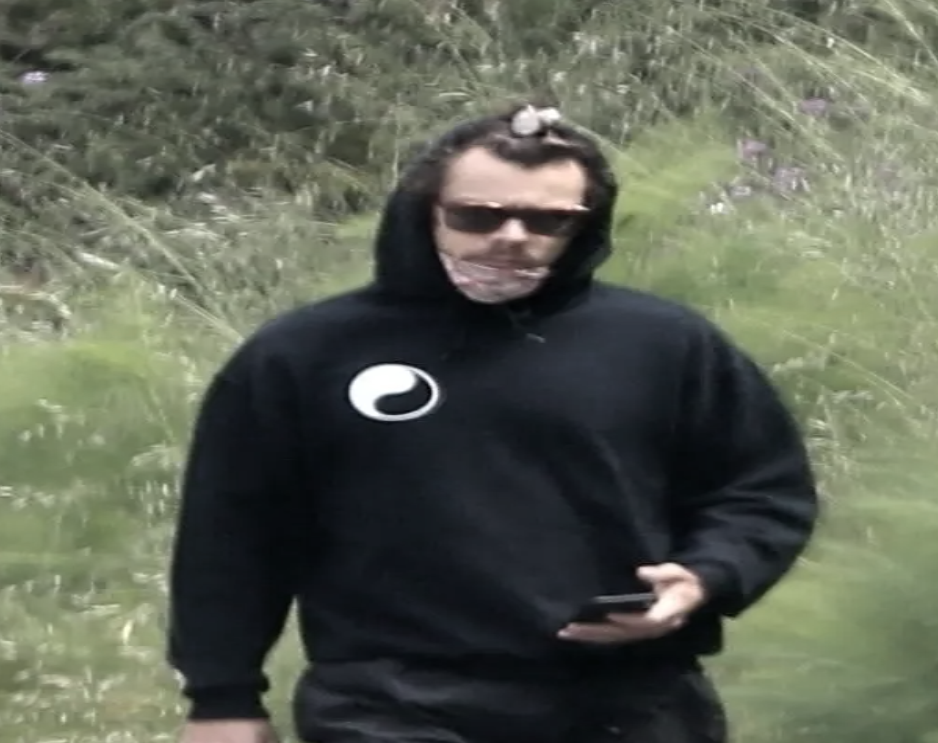mask_weared_incorrect: (401, 126, 616, 312)
